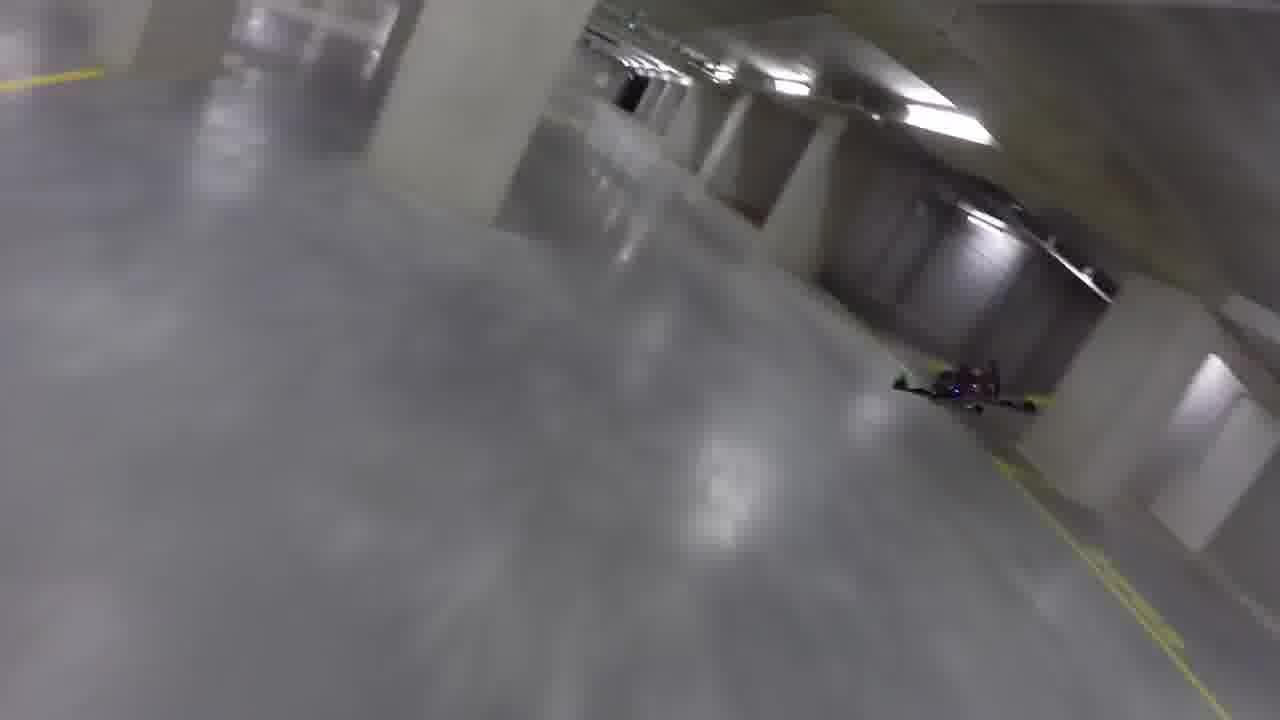drone: (882, 343, 1052, 431)
